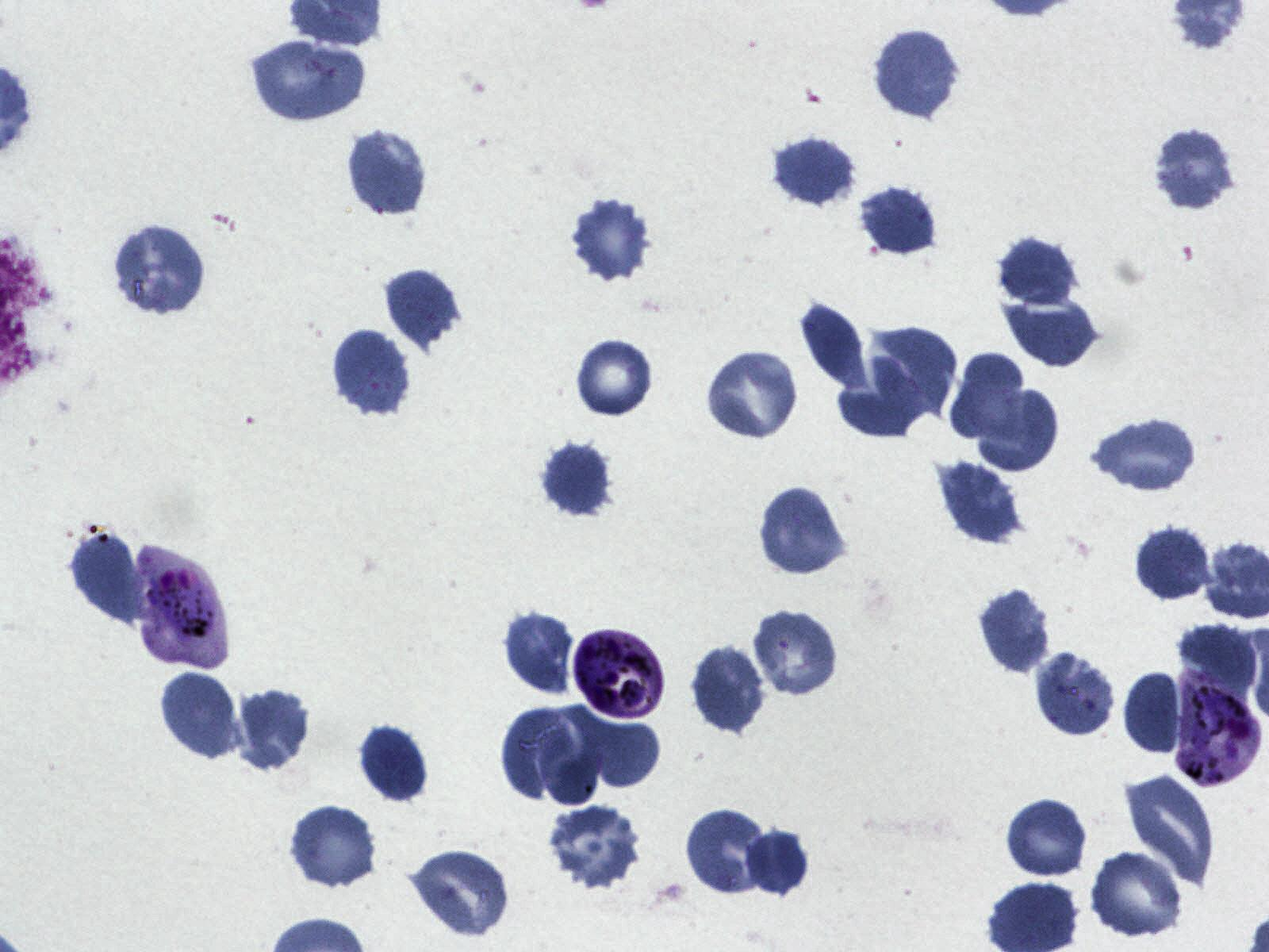Infected: (136, 546, 228, 668), (1174, 674, 1262, 788), (575, 627, 666, 720)
Uninfected: (1123, 772, 1213, 885), (252, 35, 366, 122), (110, 222, 209, 317), (704, 347, 800, 443), (412, 847, 512, 938), (1089, 847, 1186, 940), (1091, 414, 1196, 497), (757, 486, 848, 579), (867, 329, 957, 420), (872, 28, 960, 121), (970, 386, 1060, 476), (157, 669, 242, 763), (684, 808, 773, 897), (288, 803, 378, 890), (1005, 289, 1102, 369), (546, 804, 641, 885), (344, 126, 427, 218), (1033, 649, 1118, 738), (835, 352, 925, 436), (1152, 124, 1235, 213), (71, 529, 144, 629), (332, 328, 412, 419), (689, 644, 769, 735), (1005, 797, 1091, 881), (569, 195, 651, 282), (940, 458, 1022, 545), (977, 585, 1054, 677), (753, 611, 836, 696), (578, 704, 660, 790), (382, 265, 461, 352), (1175, 622, 1257, 704), (951, 351, 1026, 440), (769, 135, 863, 206), (798, 302, 872, 391), (539, 704, 604, 805), (576, 336, 654, 418), (995, 231, 1080, 306), (230, 687, 305, 770), (857, 179, 931, 263), (498, 611, 573, 692), (542, 437, 615, 516), (1128, 528, 1207, 601), (501, 708, 561, 802), (358, 726, 428, 804), (743, 826, 811, 896), (1121, 671, 1177, 754)
